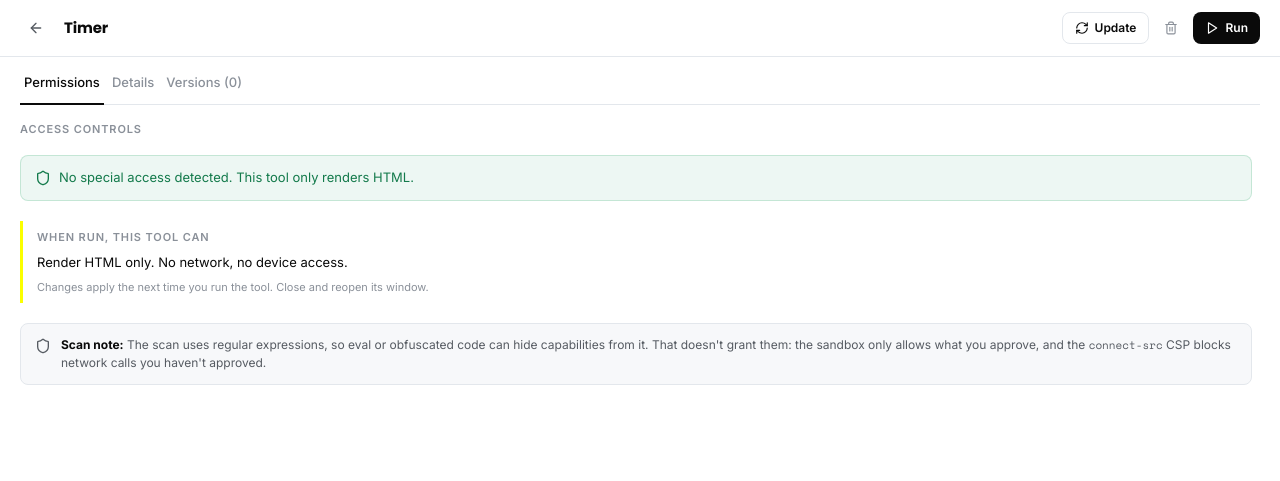
changing a tool with Codex › is offered under Update for a tool Codex made, and opens the Create window with that tool
The image size is (1280, 481).
Check: the button "Modify with Codex" is not shown
Click the button "Update".
click(1105, 28)  # box [1062,12,1149,44]
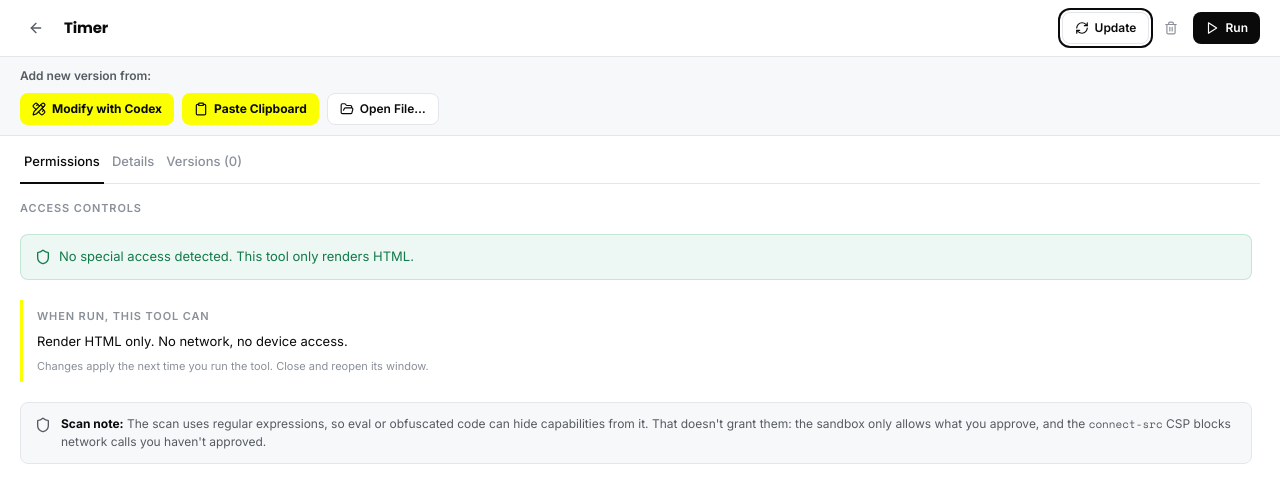
Click the button "Modify with Codex".
click(97, 109)  # box [20,93,174,125]
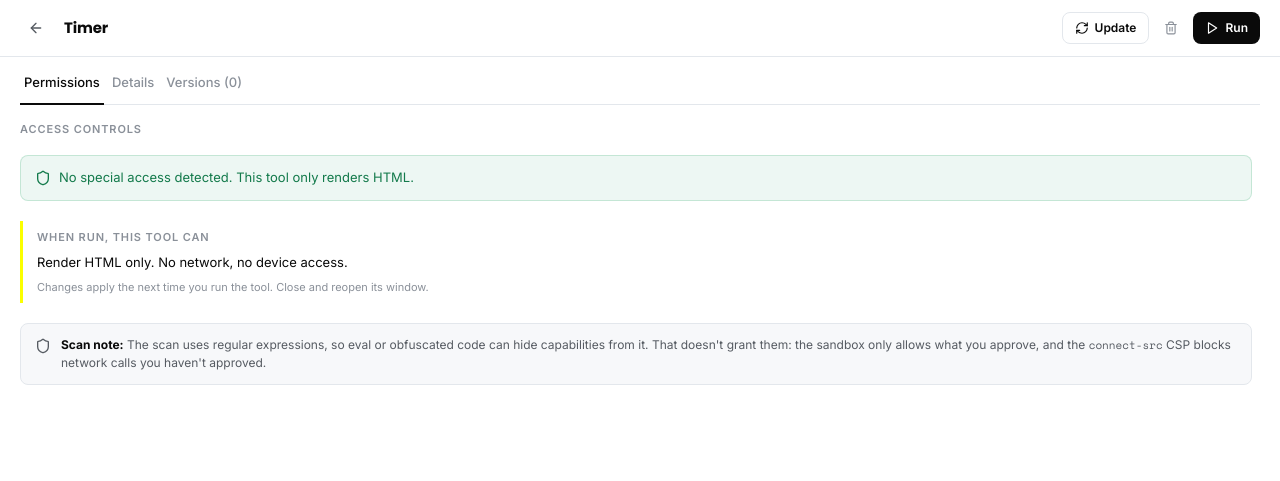
Check: the button "Modify with Codex" is gone
